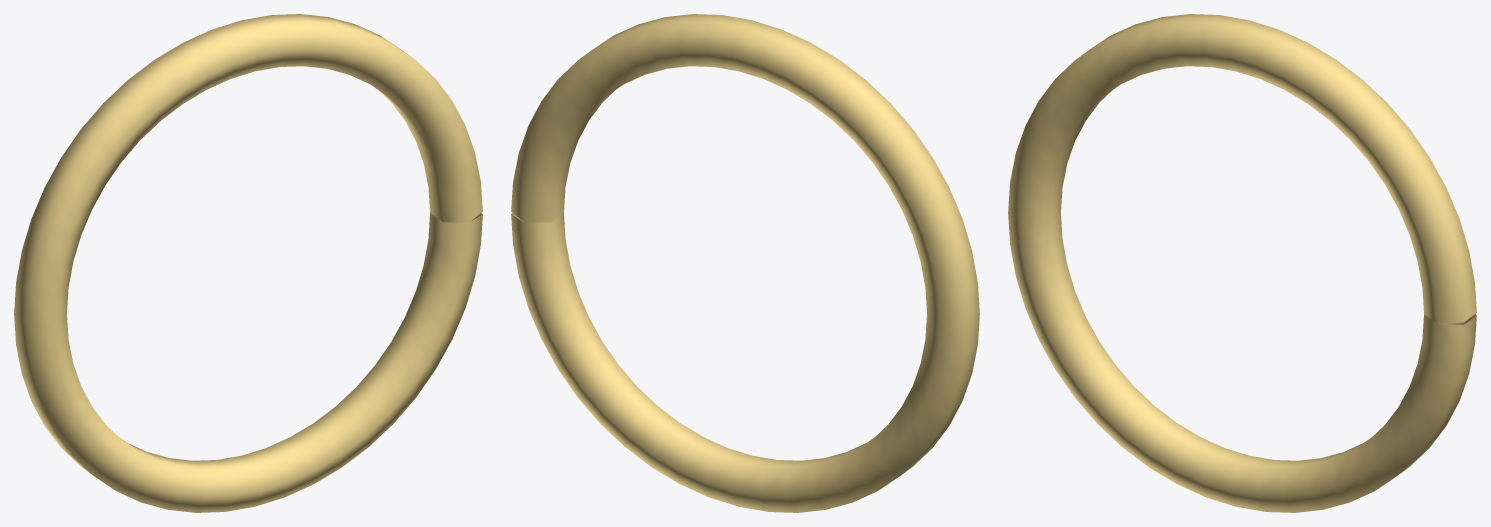
The model's file is PlainRing.obj.
3 renders of one model, left to right at view 1: azimuth 30°, elevation 25°; view 2: azimuth 150°, elevation 25°; view 3: azimuth 330°, elevation 25°, orthographic.
Parts seen in each view (by area): view 1: PlainRing; view 2: PlainRing; view 3: PlainRing.
Boxes of the visible parts, x1=… form: PlainRing: x1=14, y1=14, x2=482, y2=512; PlainRing: x1=511, y1=14, x2=979, y2=512; PlainRing: x1=1008, y1=14, x2=1476, y2=512.
Bounding box in the file's own units: 2.19 × 2.19 × 0.22.
1 material, 1 textured.
